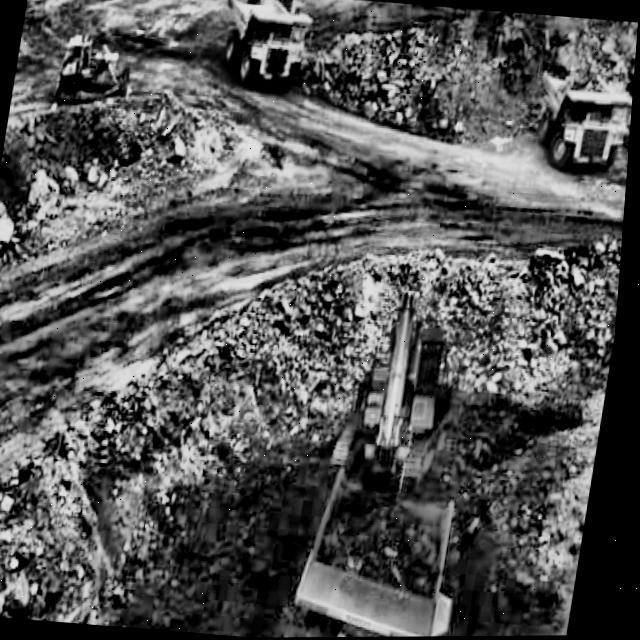buldozerpayloadergrader: (43, 30, 141, 106)
dump_truck: (287, 446, 491, 638), (531, 66, 634, 192), (210, 0, 317, 99), (257, 0, 309, 7)
excavator: (346, 274, 482, 494)
